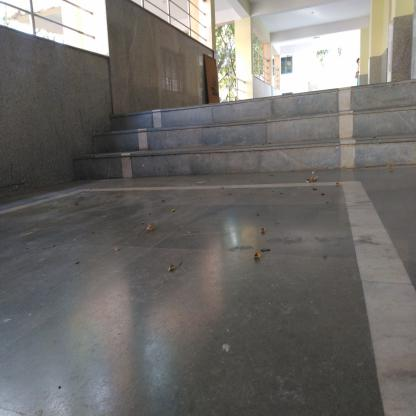stairs: (127, 110, 413, 180)
